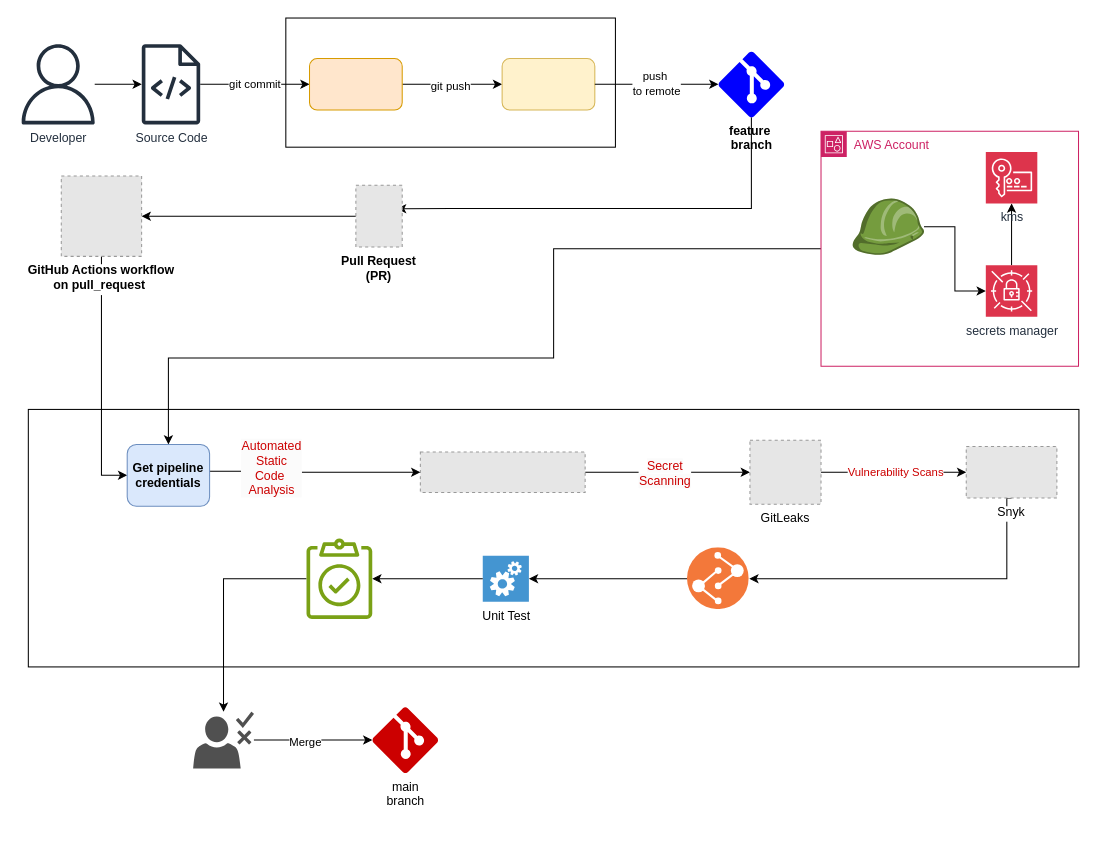
Image size: 1097x843. Some labels were removed from this diagram. Grey dashed boxes stand in for pictures. Here are the shapes that lost their labels. From the top down, the centre of each, then its label:
At point 355,84: "Pre-commit hook".
At point 548,84: "Pre-Push hook".
At point 887,226: "IAM role".
At point 339,578: "Report".
At point 718,578: "Auto build".
At point 223,739: "Approver".
